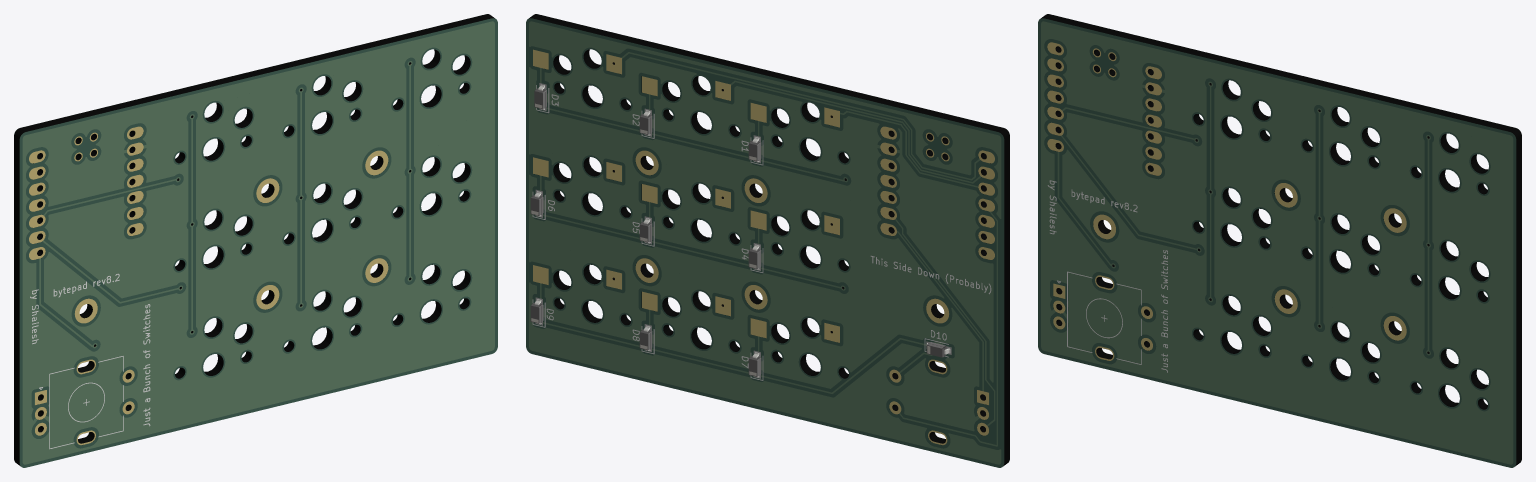
File: preview.glb
3 renders of one model, left to right at view 1: azimuth 30°, elevation 25°; view 2: azimuth 150°, elevation 25°; view 3: azimuth 330°, elevation 25°, orthographic.
Visible parts, largest first — view 1: Node674, Node673, Node671, Node672, Node678; view 2: Node677, Node675, Node671, Node672, Node679; view 3: Node674, Node673, Node671, Node672, Node678.
Part boxes in pixels (x1,y1,x2,y2): Node674: (19, 18, 497, 467); Node673: (23, 22, 494, 463); Node671: (20, 18, 497, 467); Node672: (14, 14, 494, 466); Node678: (30, 273, 150, 449); Node677: (526, 18, 1004, 467); Node675: (529, 22, 1000, 463); Node671: (526, 18, 1003, 467); Node672: (529, 14, 1009, 466); Node679: (532, 85, 991, 380); Node674: (1038, 18, 1516, 467); Node673: (1041, 22, 1512, 463); Node671: (1038, 18, 1515, 467); Node672: (1041, 14, 1521, 466); Node678: (1047, 180, 1167, 372).
Size of the model in its own units: 31.1 by 20.87 by 1.15.
